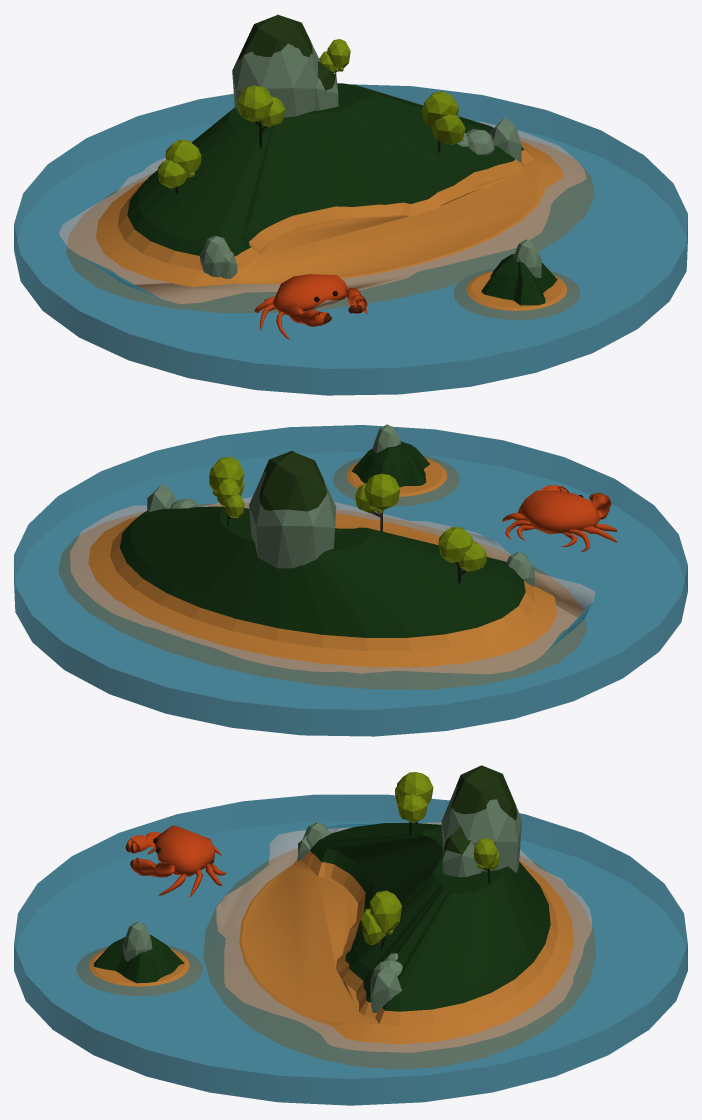
File: island1.obj
3 views of the same model, one above another, from view 1: azimuth 30°, elevation 25°; view 2: azimuth 150°, elevation 25°; view 3: azimuth 270°, elevation 25° (orthographic).
Visible parts, largest first — view 1: Bay_1250, Crab.1; view 2: Bay_1250, Crab.1; view 3: Bay_1250, Crab.1.
Part boxes in pixels (box(x1,y1,x2,y2)): Bay_1250: box(14, 14, 687, 395); Crab.1: box(254, 274, 367, 339); Bay_1250: box(14, 424, 687, 736); Crab.1: box(502, 485, 617, 552); Bay_1250: box(14, 765, 687, 1105); Crab.1: box(125, 825, 226, 897).
Size of the model in its own units: 23.33 by 7.38 by 23.36.
